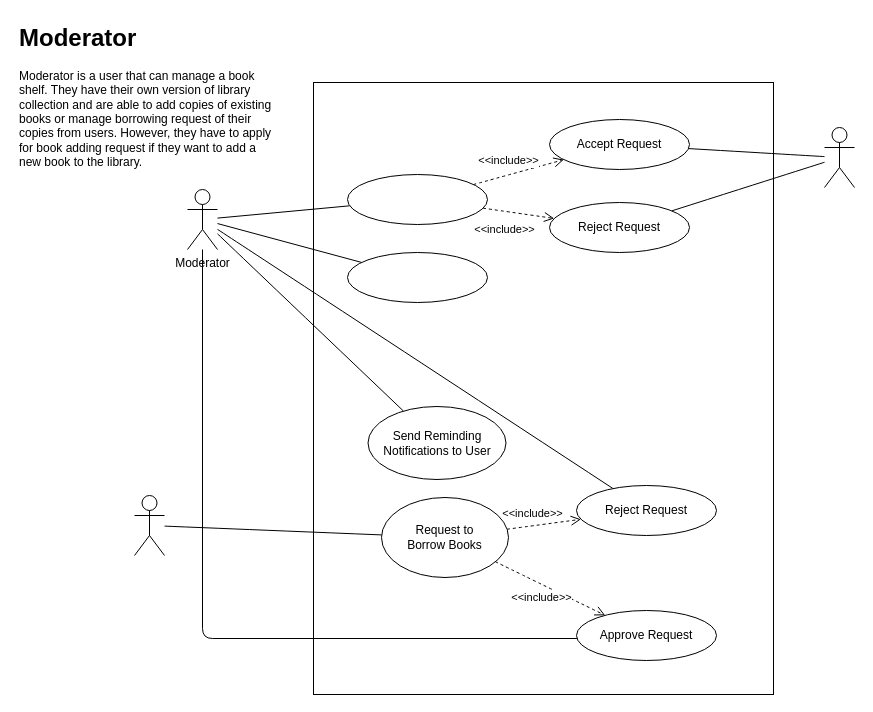
Image size: 873x712. Some labels were removed from this diagram. Here are the shapes that lost their labels. From the top down, the centre of each, then its label:
At point (839, 157): "Admin".
At point (417, 199): "Request to Add Books".
At point (417, 277): "Add Copies".
At point (149, 525): "Registered User".
